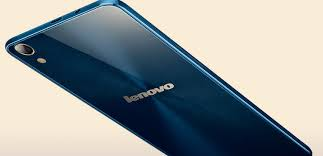lenovo: (4, 1, 320, 156)
